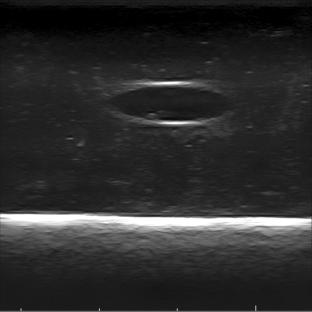vessel: (113, 80, 235, 126)
